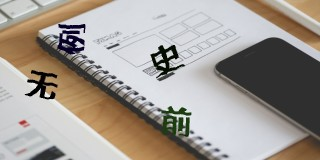例: (55, 22, 87, 55)
前: (160, 106, 192, 139)
史: (150, 43, 185, 78)
无: (25, 70, 58, 99)
